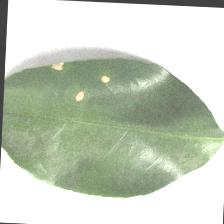canker: (42, 48, 111, 112)
